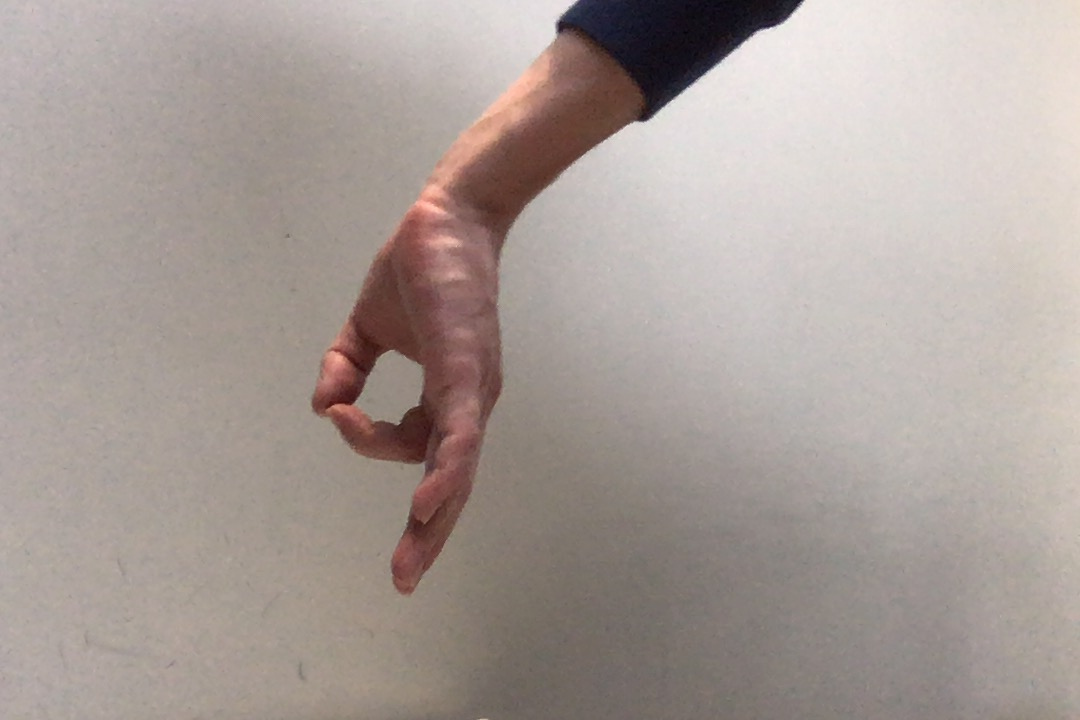oksign: (305, 191, 511, 601)
